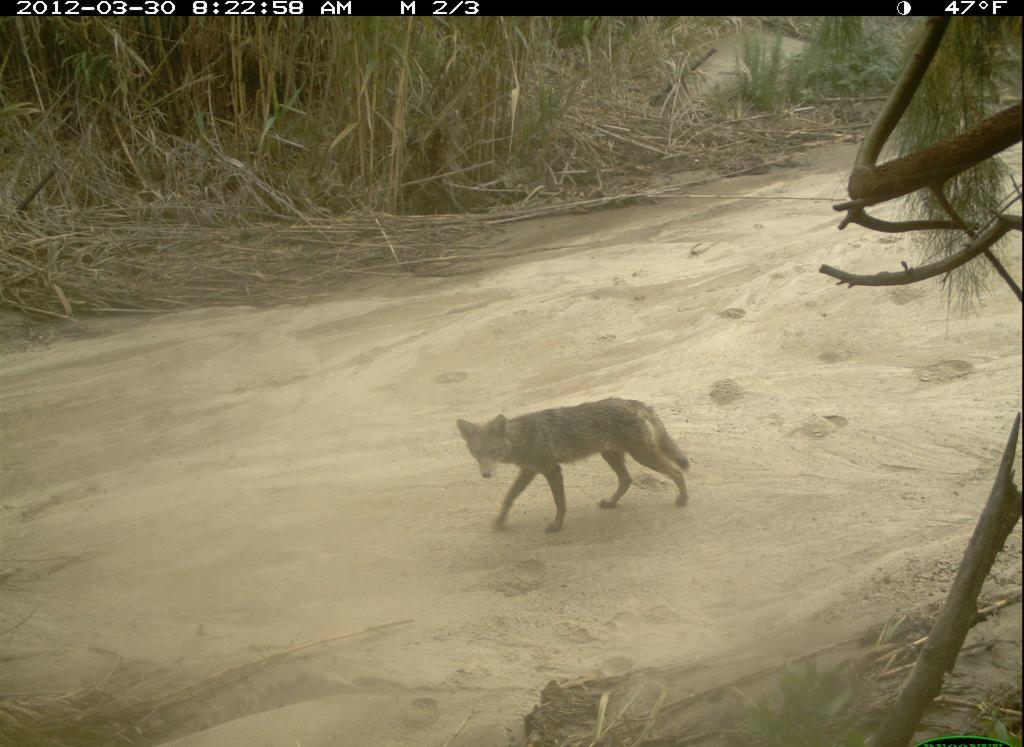coyote: (455, 397, 694, 534)
